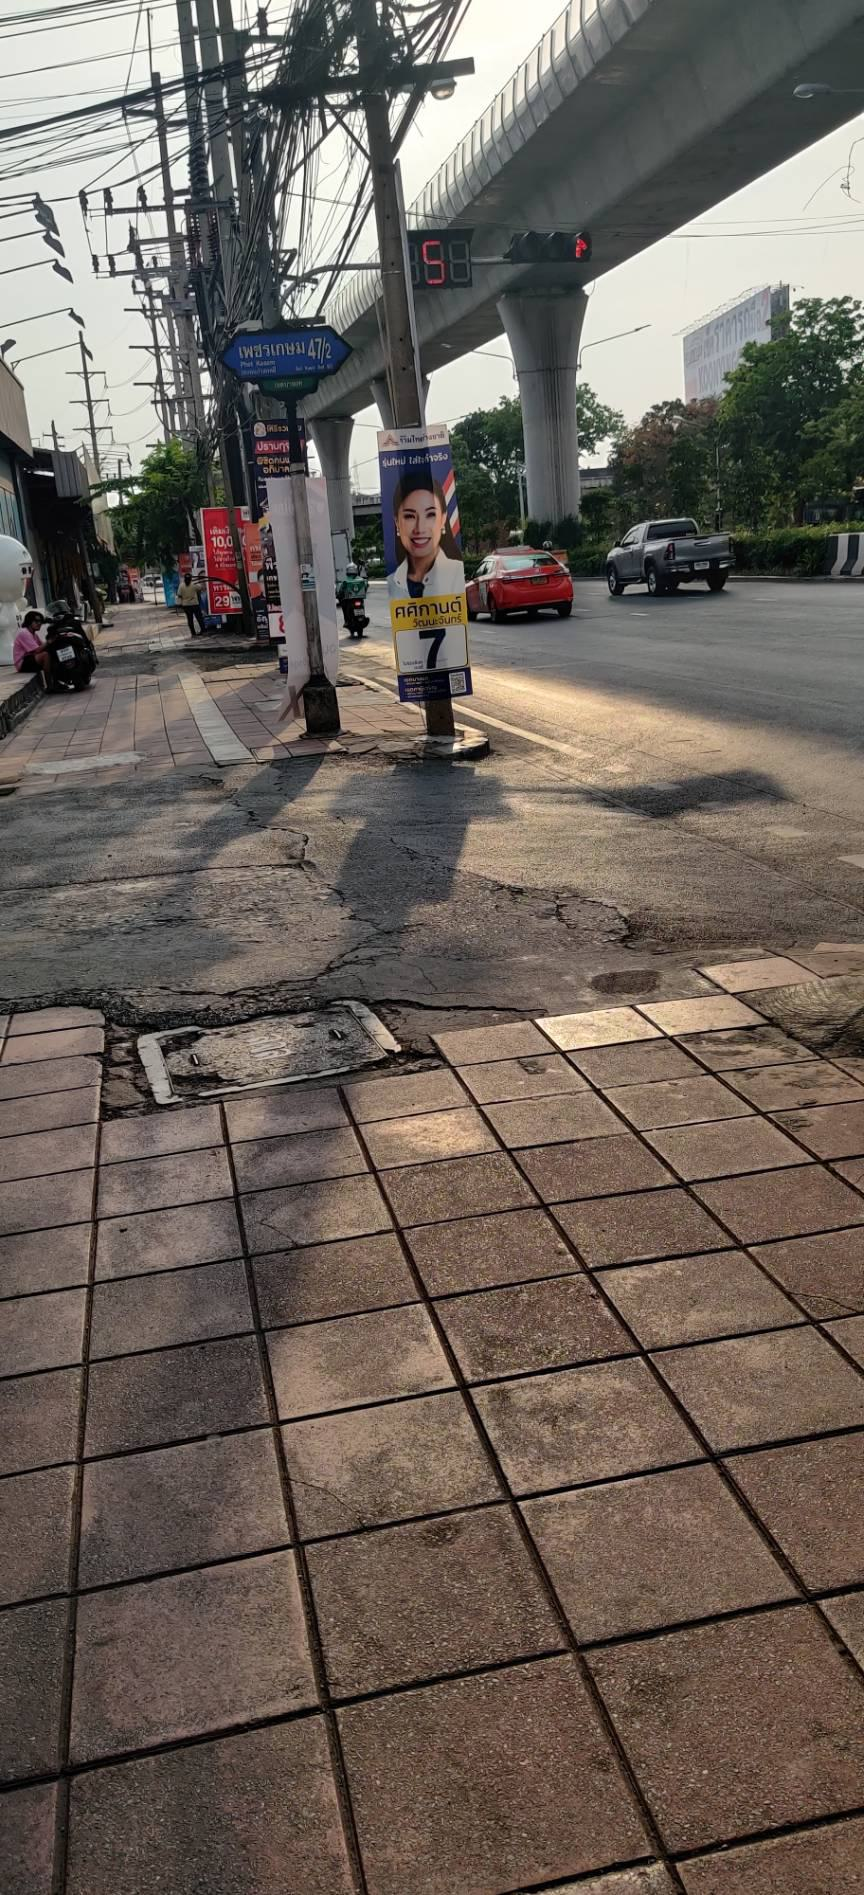Banner: (381, 425, 471, 715)
